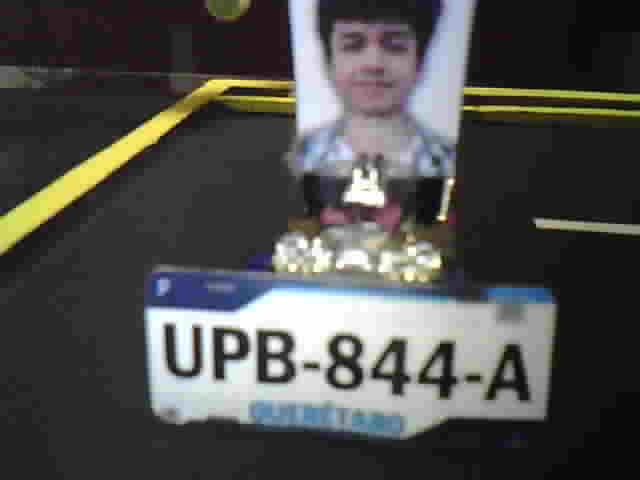PLACA: (142, 261, 562, 446)
ROSTRO: (291, 1, 454, 177)
